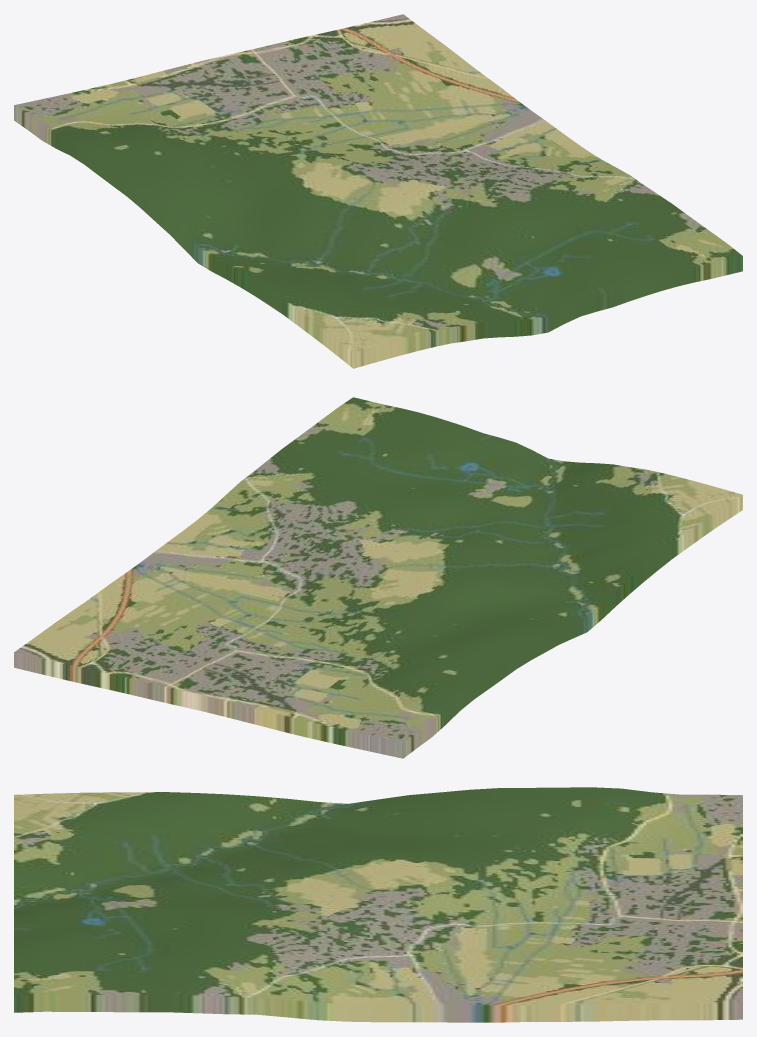
3 renders of one model, top to bottom at view 1: azimuth 30°, elevation 25°; view 2: azimuth 150°, elevation 25°; view 3: azimuth 270°, elevation 25°, orthographic. The views are drawn at different scales.
Size of the model in its own units: 3239 by 269 by 4887.
Materials: 1 (1 with a texture image).
